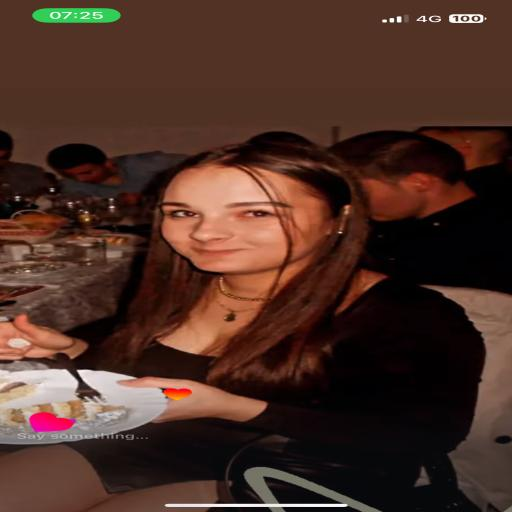marija: (162, 170, 333, 273)
